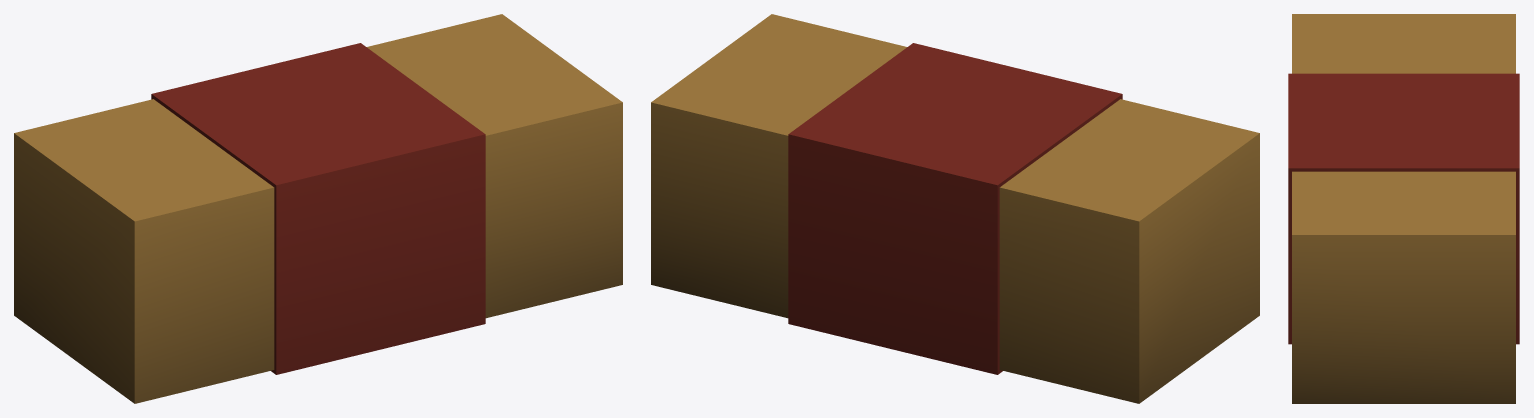
The model's file is galletas.glb.
3 renders of one model, left to right at view 1: azimuth 30°, elevation 25°; view 2: azimuth 150°, elevation 25°; view 3: azimuth 270°, elevation 25°, orthographic. The views are drawn at different scales.
Visible parts, largest first — view 1: galletas; view 2: galletas; view 3: galletas.
Boxes of the visible parts, x1,y1,x2,y2 form: galletas: [14, 14, 622, 403]; galletas: [651, 14, 1259, 403]; galletas: [1288, 14, 1519, 403].
Bounding box in the file's own units: 0.14 × 0.052 × 0.062.
